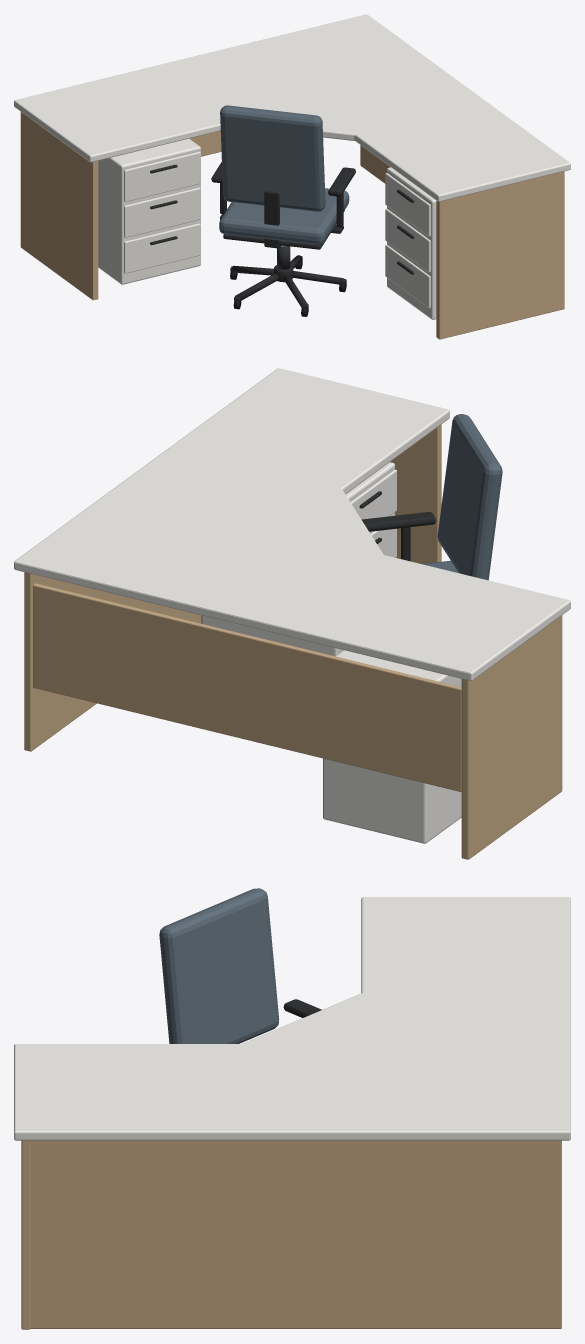
File: deskCorner.glb
The picture shows the model from 3 angles, top to bottom: view 1: azimuth 30°, elevation 25°; view 2: azimuth 150°, elevation 25°; view 3: azimuth 270°, elevation 25°; orthographic projection. The views are drawn at different scales.
Visible parts, largest first — view 1: deskCorner; view 2: deskCorner; view 3: deskCorner.
Boxes of the visible parts, x1,y1,x2,y2 form: deskCorner: (14, 14, 570, 339); deskCorner: (14, 368, 570, 859); deskCorner: (14, 888, 570, 1329).
Size of the model in its own units: 1.86 by 1.01 by 1.86.
